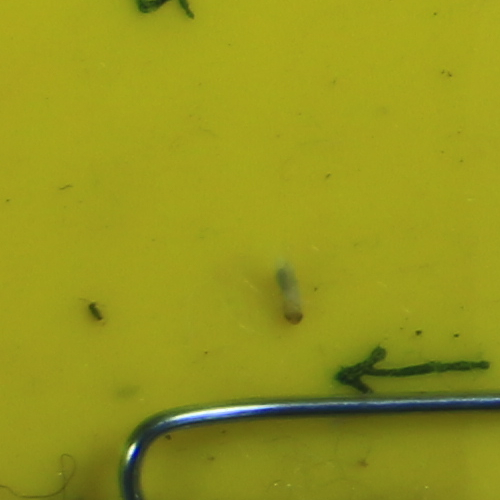cicada: (277, 300, 307, 327)
